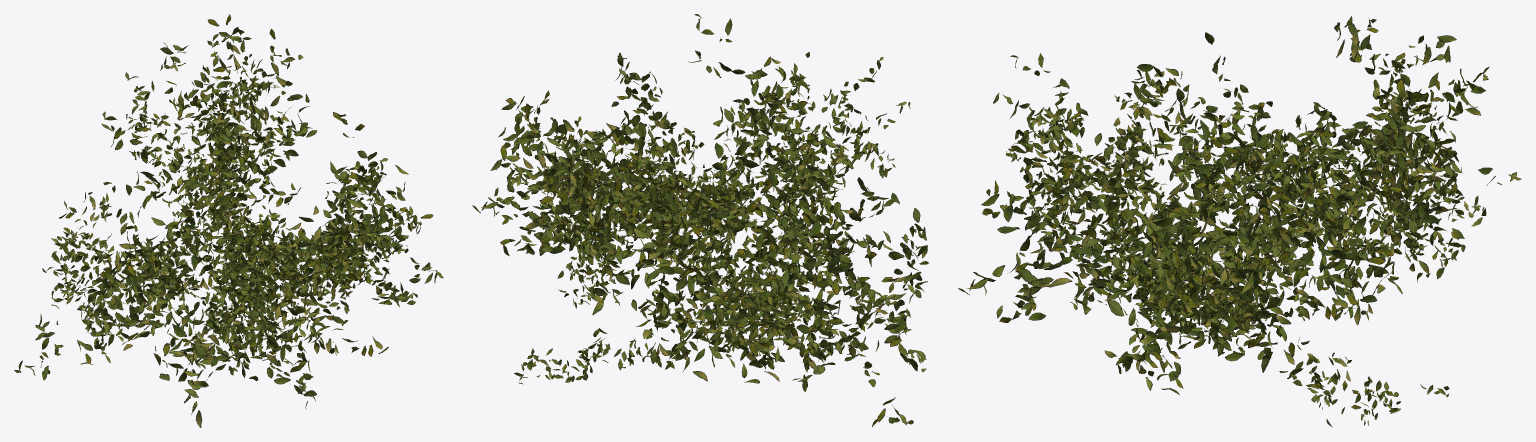
Rendered from island_tree_01_L0_hojas.glb.
The picture shows the model from 3 angles, left to right: view 1: azimuth 30°, elevation 25°; view 2: azimuth 150°, elevation 25°; view 3: azimuth 270°, elevation 25°; orthographic projection. The views are drawn at different scales.
Parts seen in each view (by area): view 1: island_tree_01_LOD0; view 2: island_tree_01_LOD0; view 3: island_tree_01_LOD0.
Boxes of the visible parts, bbox=[...] form: island_tree_01_LOD0: bbox=[14, 14, 443, 427]; island_tree_01_LOD0: bbox=[472, 14, 928, 426]; island_tree_01_LOD0: bbox=[958, 16, 1521, 427].
Size of the model in its own units: 4.81 by 3.51 by 4.86.
1 material, 1 textured.
